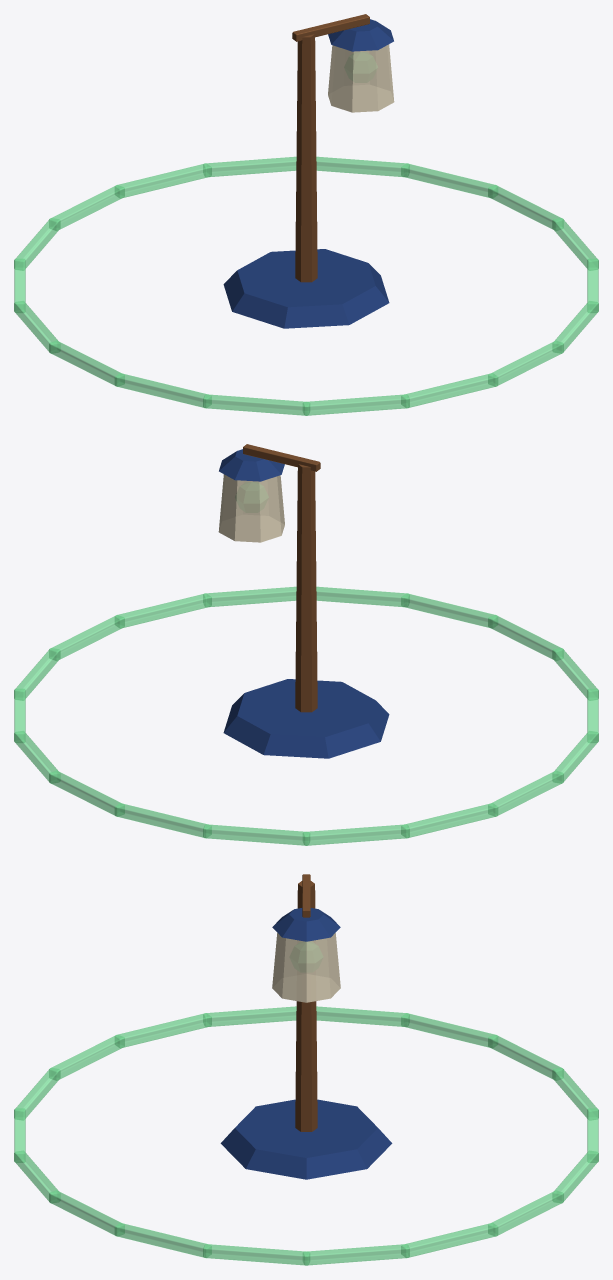
File: undying_lantern.glb
3 renders of one model, top to bottom at view 1: azimuth 30°, elevation 25°; view 2: azimuth 150°, elevation 25°; view 3: azimuth 270°, elevation 25°, orthographic.
Visible parts, largest first — view 1: base, pole, lantern, zone_5, zone_6, zone_4, zone_13, zone_16, zone_7, lantern_cap, zone_14, zone_15 (+11 smaller); view 2: base, pole, lantern, zone_11, zone_12, zone_1, zone_4, zone_13, zone_10, lantern_cap, zone_3, zone_2 (+11 smaller); view 3: base, lantern, pole, lantern_cap, zone_0, zone_17, zone_1, zone_10, zone_7, zone_16, zone_8, zone_9 (+10 smaller).
Part boxes in pixels (x1,y1,x2,y2): base: (223, 249, 389, 328); pole: (295, 34, 317, 282); lantern: (328, 44, 394, 112); zone_5: (303, 394, 409, 415); zone_6: (203, 394, 309, 415); zone_4: (401, 373, 497, 408); zone_13: (115, 163, 211, 198); zone_16: (401, 163, 497, 198); zone_7: (115, 373, 211, 408); lantern_cap: (328, 19, 393, 51); zone_14: (203, 156, 296, 177); zone_15: (316, 156, 409, 177); base: (223, 679, 389, 758); pole: (295, 464, 317, 712); lantern: (218, 474, 284, 542); zone_11: (303, 824, 409, 845); zone_12: (203, 824, 309, 845); zone_1: (115, 593, 211, 628); zone_4: (401, 593, 497, 628); zone_13: (115, 803, 211, 838); zone_10: (401, 803, 497, 838); lantern_cap: (219, 449, 284, 481); zone_3: (316, 586, 409, 607); zone_2: (203, 586, 296, 607); base: (220, 1099, 392, 1179); lantern: (272, 933, 340, 1002); pole: (295, 881, 317, 1131); lantern_cap: (272, 908, 340, 941); zone_0: (203, 1244, 309, 1265); zone_17: (303, 1244, 409, 1265); zone_1: (115, 1222, 211, 1257); zone_10: (401, 1013, 497, 1048); zone_7: (115, 1013, 211, 1048); zone_16: (401, 1222, 497, 1257); zone_8: (203, 1006, 296, 1026); zone_9: (316, 1006, 409, 1026).
Bounding box in the file's own units: 2.07 × 1.01 × 2.04.
